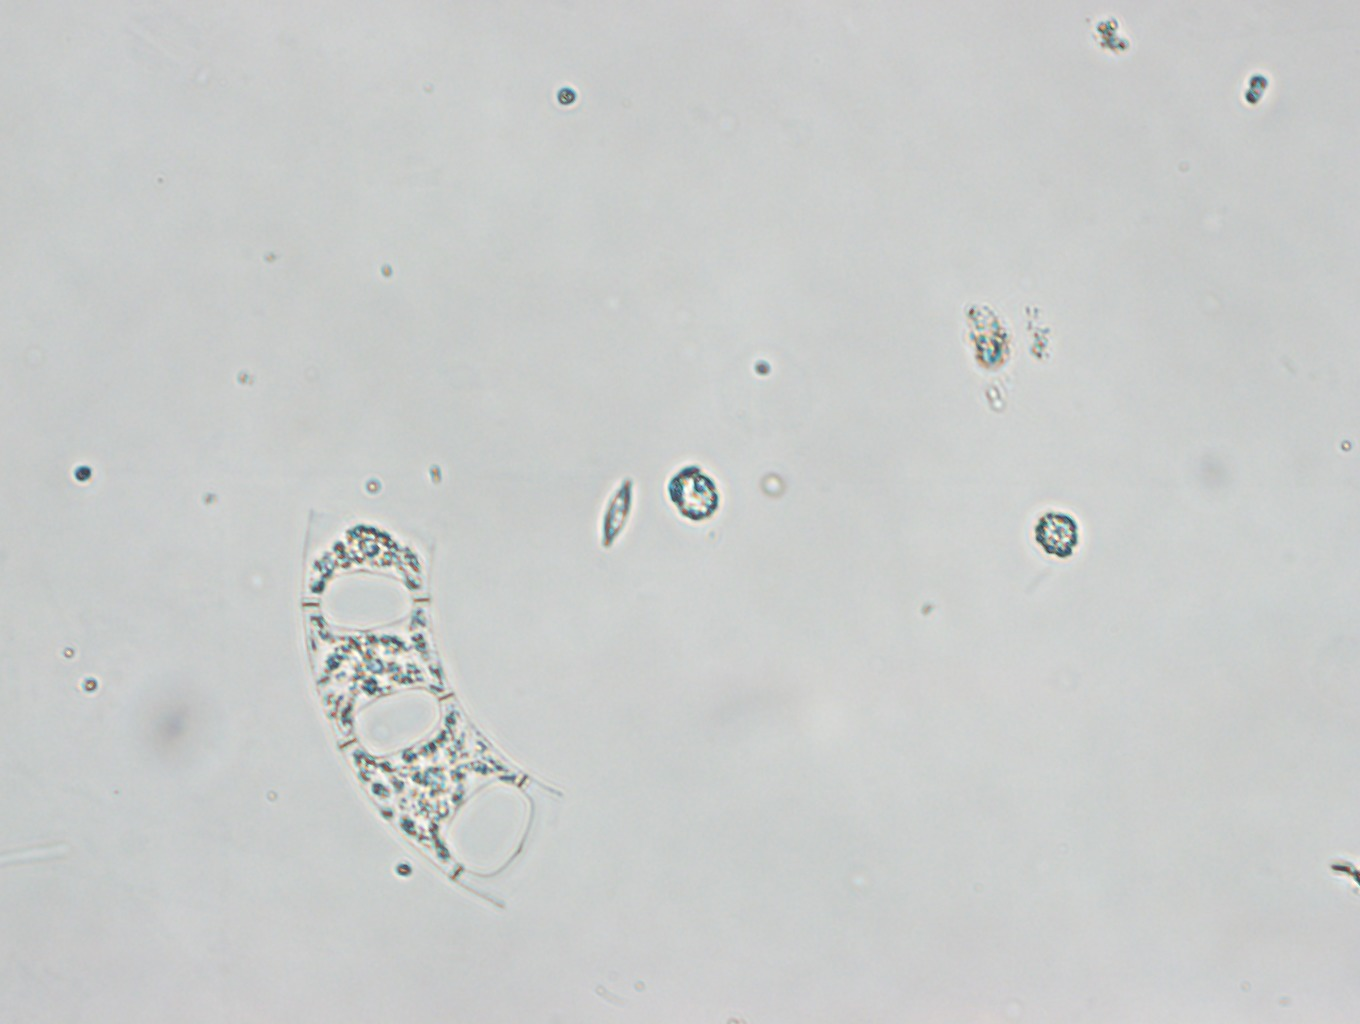eucampia: (289, 500, 566, 918)
